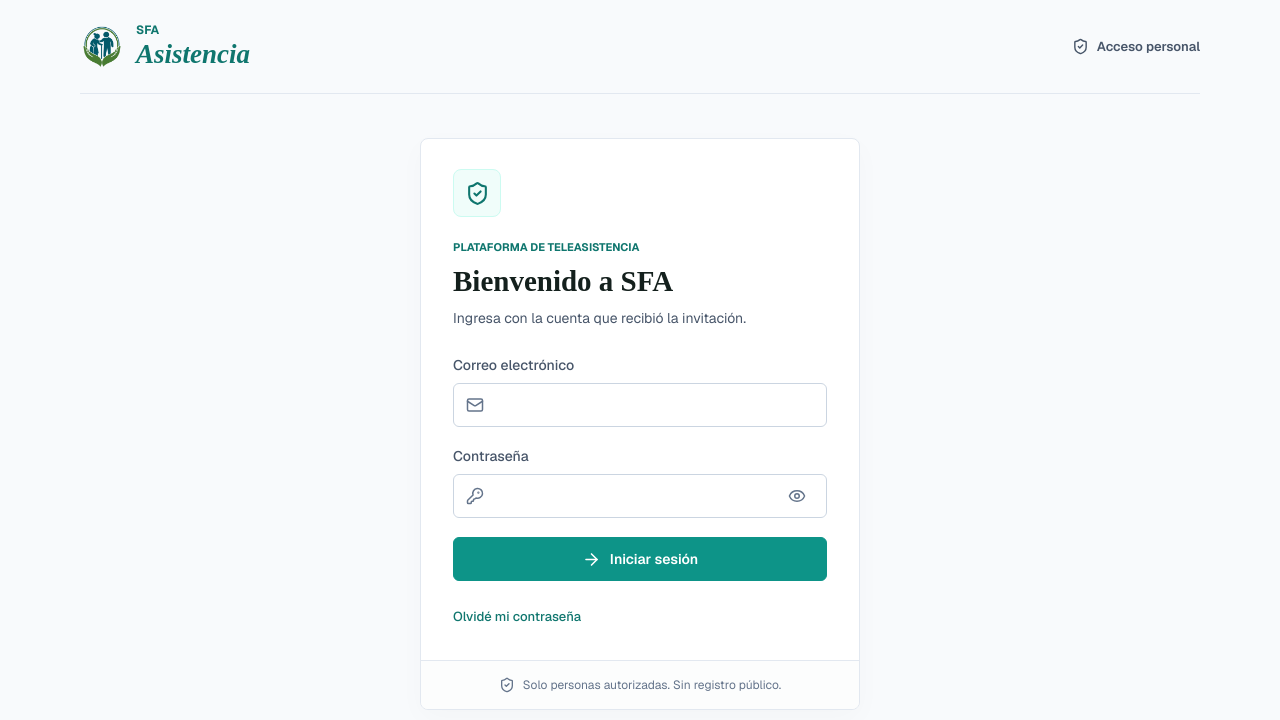
Test: SFA access screen › recovery feedback does not disclose whether an account exists
Click the button "Olvidé mi contraseña" at (517, 616), box [453, 600, 581, 632]
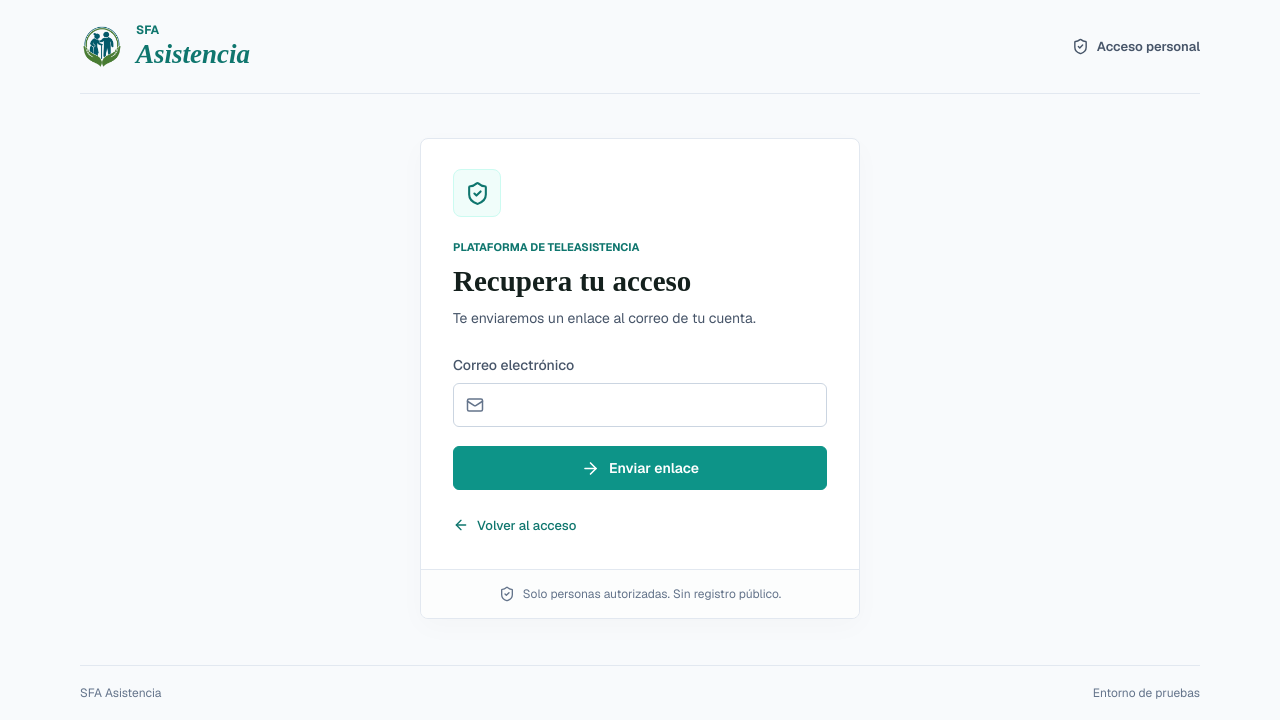
Type "test@example.invalid" into the field labelled "Correo electrónico" at (654, 405), box [494, 384, 814, 426]
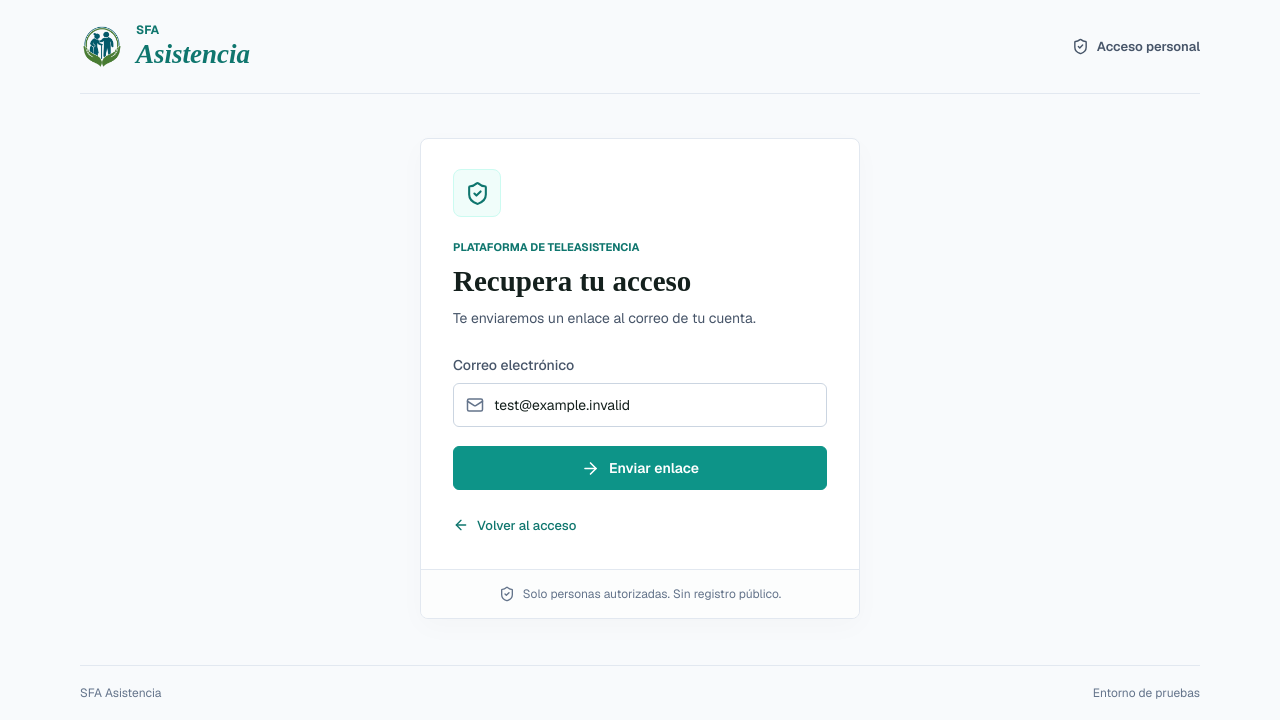
Click the button "Enviar enlace" at (640, 468), box [453, 446, 827, 490]
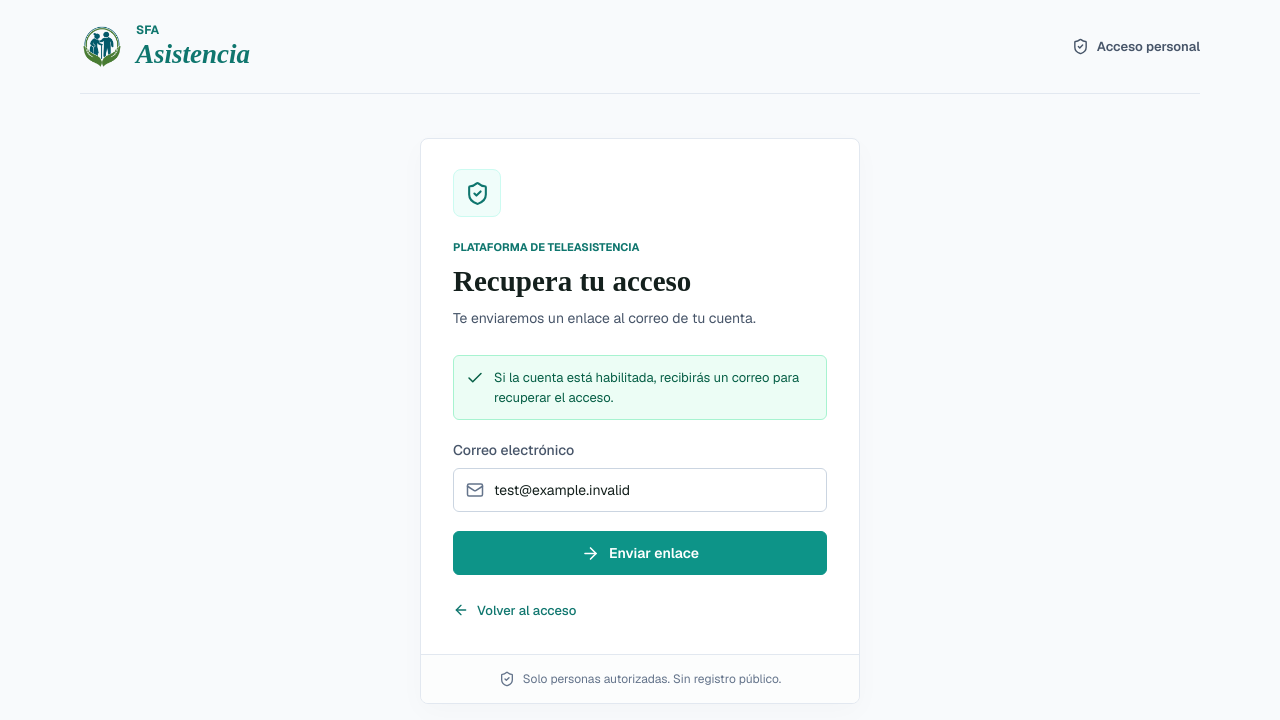
Expected: the message "Si la cuenta está habilitada, recibirás un correo para recuperar el acceso." is shown, [453, 355, 827, 420]
Expected: the text "Si la cuenta está habilitada" is shown, [494, 369, 799, 406]
